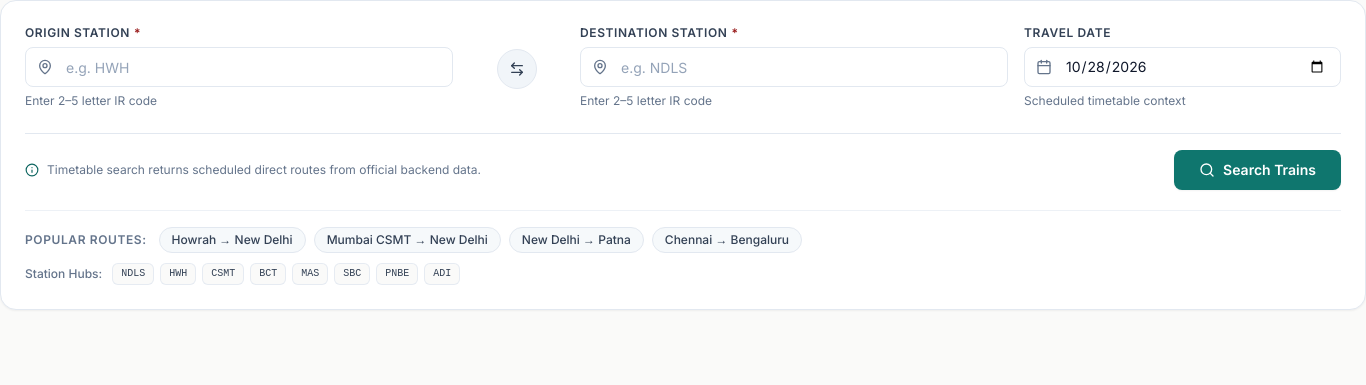
Scenario: TrainSearchForm Component › rejects identical origin and destination station codes
The image size is (1366, 385).
Type "NDLS" into the field labelled "Origin Station*".
click(239, 67); type("NDLS")  # box [25,47,453,87]
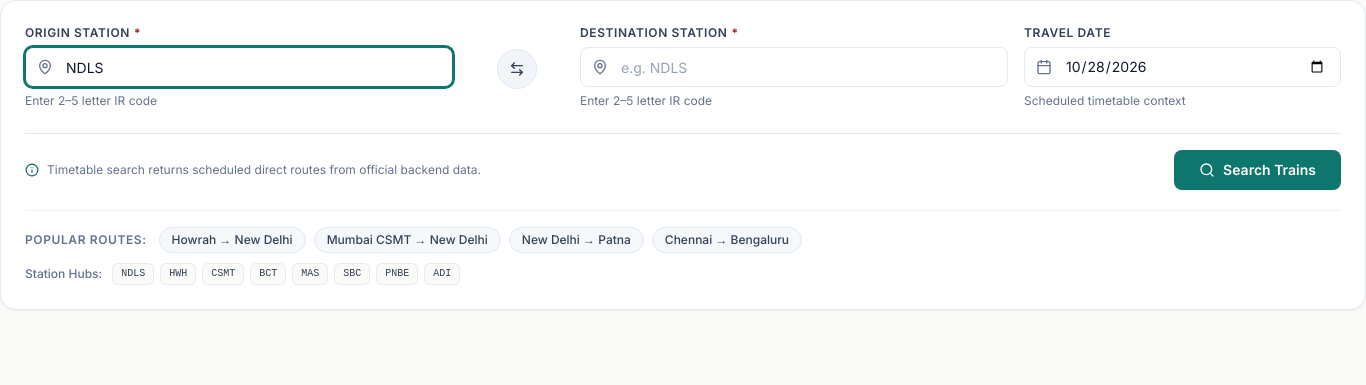
Type "NDLS" into the field labelled "Destination Station*".
click(794, 67); type("NDLS")  # box [580,47,1008,87]
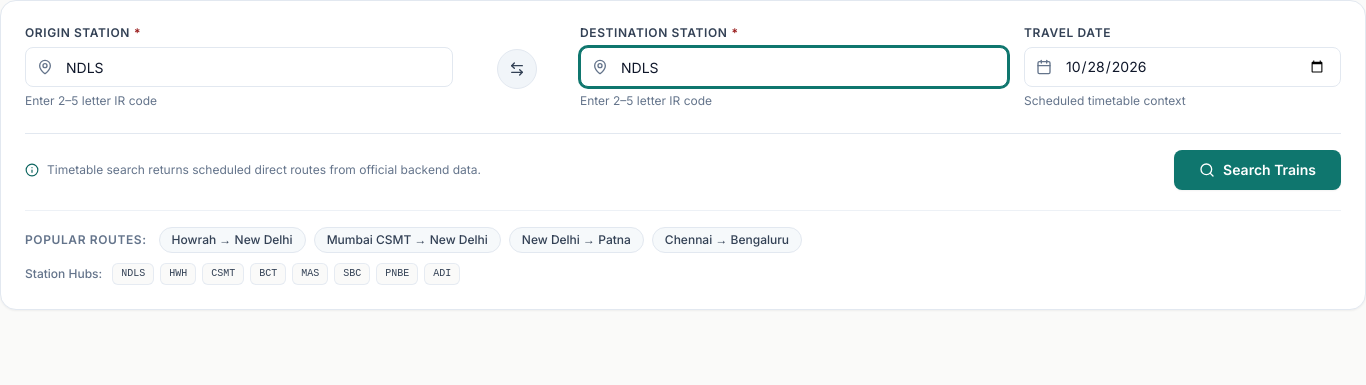
Click the button "Search Trains".
click(1258, 170)  # box [1174,150,1341,190]
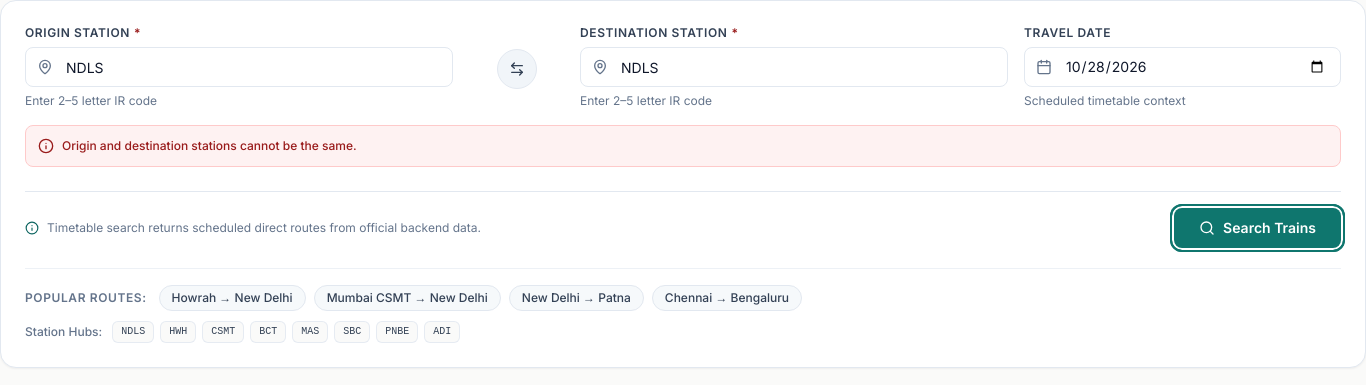
expect the text "Origin and destination stations cannot be the same." is shown: met, box [62,138,357,154]
